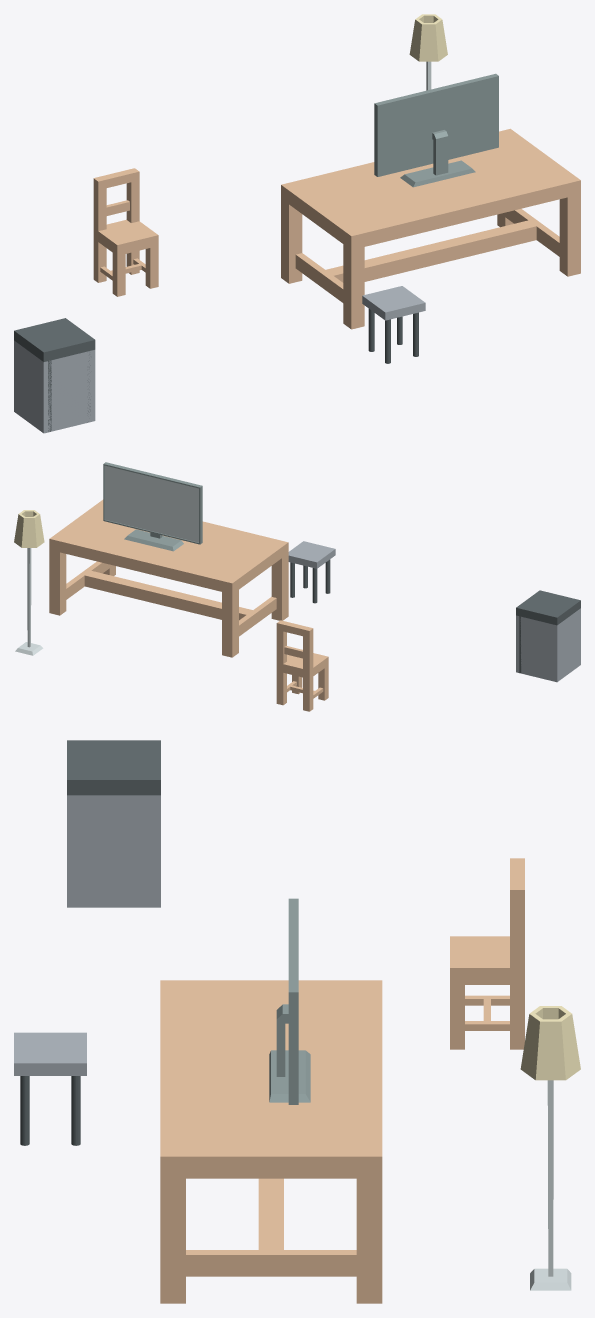
The picture shows the model from 3 angles, top to bottom: view 1: azimuth 30°, elevation 25°; view 2: azimuth 150°, elevation 25°; view 3: azimuth 270°, elevation 25°; orthographic projection. The views are drawn at different scales.
Visible parts, largest first — view 1: table_green__table(Clone), tv_black__televisionModern(Clone), bin_gray__bin_gray shell, chair_cyan__chair(Clone), bin_gray__bin_gray lid, lamp_white__lampRoundFloor(Clone), stool_purple__stool_purple seat; view 2: table_green__table(Clone), tv_black__televisionModern(Clone), bin_gray__bin_gray shell, chair_cyan__chair(Clone), lamp_white__lampRoundFloor(Clone), bin_gray__bin_gray lid, stool_purple__stool_purple seat; view 3: table_green__table(Clone), bin_gray__bin_gray shell, chair_cyan__chair(Clone), lamp_white__lampRoundFloor(Clone), bin_gray__bin_gray lid, tv_black__televisionModern(Clone), stool_purple__stool_purple seat.
Boxes of the visible parts, box(x1,y1,x2,y2) form: table_green__table(Clone): box(281, 128, 580, 329); tv_black__televisionModern(Clone): box(374, 73, 498, 187); bin_gray__bin_gray shell: box(14, 340, 95, 433); chair_cyan__chair(Clone): box(93, 168, 158, 296); bin_gray__bin_gray lid: box(14, 318, 95, 361); lamp_white__lampRoundFloor(Clone): box(409, 14, 447, 90); stool_purple__stool_purple seat: box(362, 286, 425, 320); table_green__table(Clone): box(49, 499, 288, 657); tv_black__televisionModern(Clone): box(103, 462, 202, 551); bin_gray__bin_gray shell: box(516, 608, 580, 682); chair_cyan__chair(Clone): box(276, 620, 328, 711); lamp_white__lampRoundFloor(Clone): box(14, 510, 44, 655); bin_gray__bin_gray lid: box(516, 590, 580, 625); stool_purple__stool_purple seat: box(288, 541, 335, 568); table_green__table(Clone): box(160, 980, 382, 1303); bin_gray__bin_gray shell: box(67, 795, 160, 907); chair_cyan__chair(Clone): box(450, 858, 524, 1049); lamp_white__lampRoundFloor(Clone): box(520, 1006, 580, 1290); bin_gray__bin_gray lid: box(67, 740, 160, 795); tv_black__televisionModern(Clone): box(269, 898, 310, 1104); stool_purple__stool_purple seat: box(14, 1032, 86, 1075).
Bounding box in the file's own units: 4.39 × 1.32 × 2.41.
